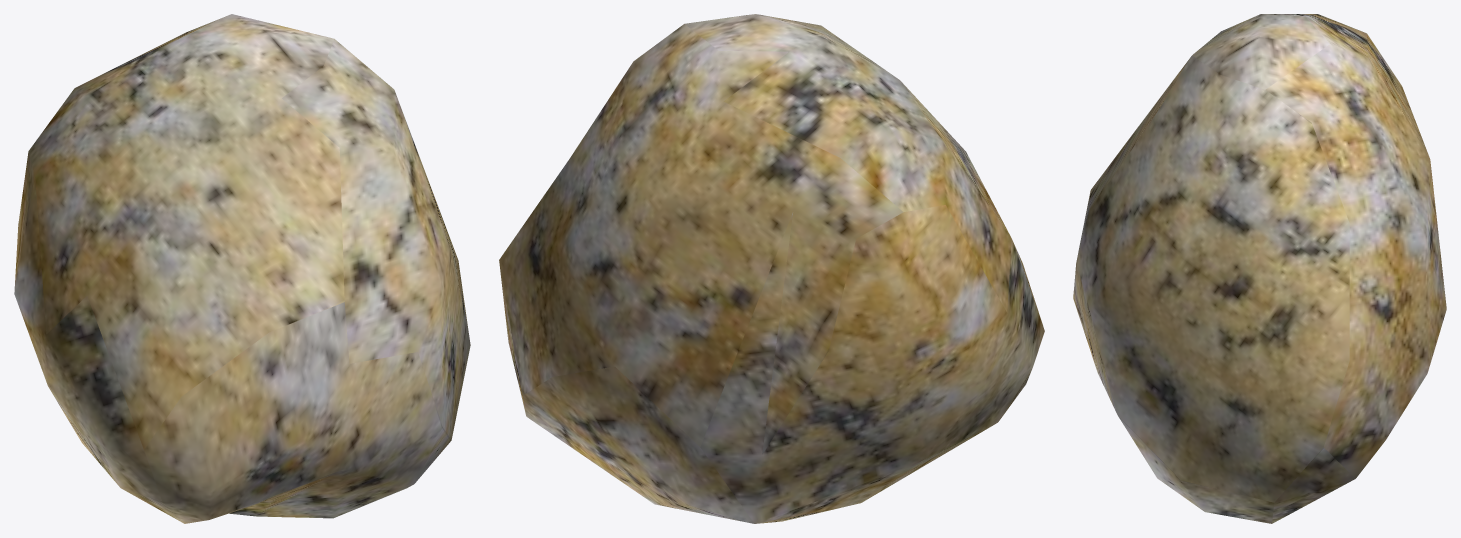
3 renders of one model, left to right at view 1: azimuth 30°, elevation 25°; view 2: azimuth 150°, elevation 25°; view 3: azimuth 270°, elevation 25°, orthographic. The views are drawn at different scales.
Parts seen in each view (by area): view 1: rock044_lod4; view 2: rock044_lod4; view 3: rock044_lod4.
Part boxes in pixels (<box>): rock044_lod4: <box>14,14,470,523</box>; rock044_lod4: <box>499,14,1044,523</box>; rock044_lod4: <box>1073,14,1446,523</box>.
Bounding box in the file's own units: 1 × 1.05 × 0.7867.
Materials: 1 (1 with a texture image).
